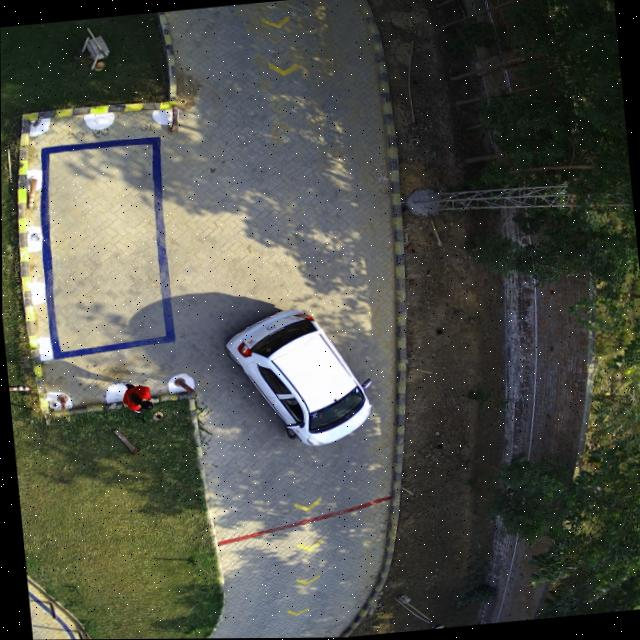car: (224, 310, 369, 446)
